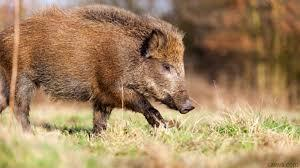wildboar: (0, 4, 195, 136)
